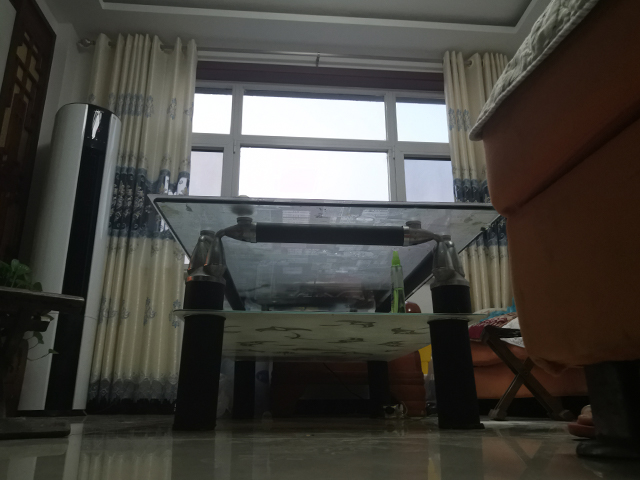curtain: (89, 30, 198, 409), (441, 45, 516, 308)
sofa: (468, 1, 640, 462)
stool: (1, 284, 87, 440), (480, 323, 576, 422)
table: (144, 192, 502, 432)
wire: (320, 362, 412, 421)
